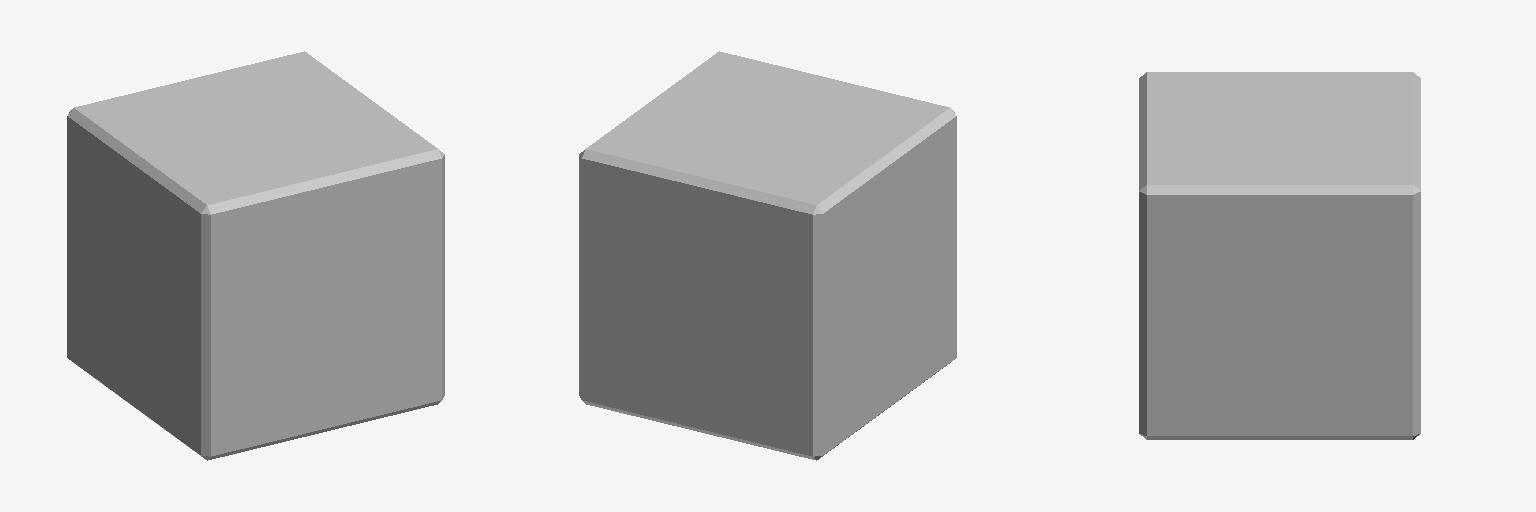
Rendered from terrain_cork.obj.
The picture shows the model from 3 angles: view 1: azimuth 30°, elevation 25°; view 2: azimuth 150°, elevation 25°; view 3: azimuth 270°, elevation 25°; orthographic projection.
Visible parts, largest first — view 1: Crate; view 2: Crate; view 3: Crate.
Part boxes in pixels (left/top/right/bottom): Crate: left=67, top=51, right=444, bottom=460; Crate: left=579, top=51, right=956, bottom=460; Crate: left=1139, top=72, right=1420, bottom=439.
Size of the model in its own units: 64.03 by 64.03 by 64.03.